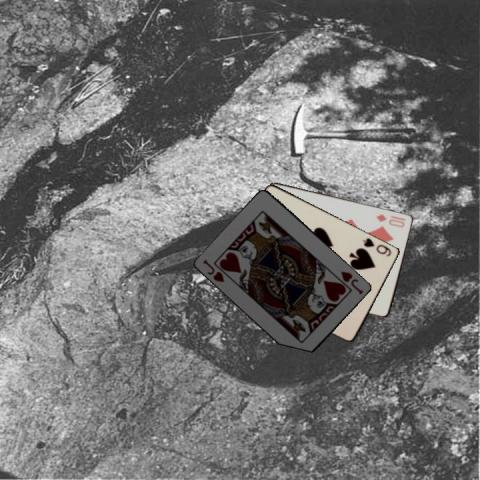10d: (373, 210, 406, 228)
6s: (360, 235, 393, 258)
Jh: (338, 268, 365, 296), (200, 256, 226, 284)
